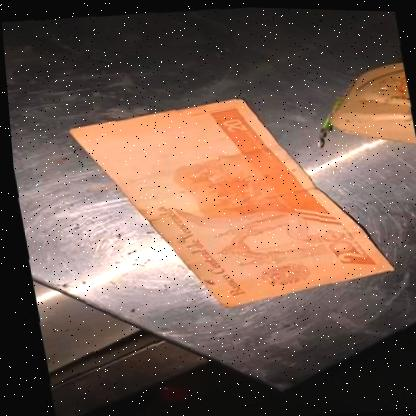twenty-back-vef: (60, 79, 397, 323)
